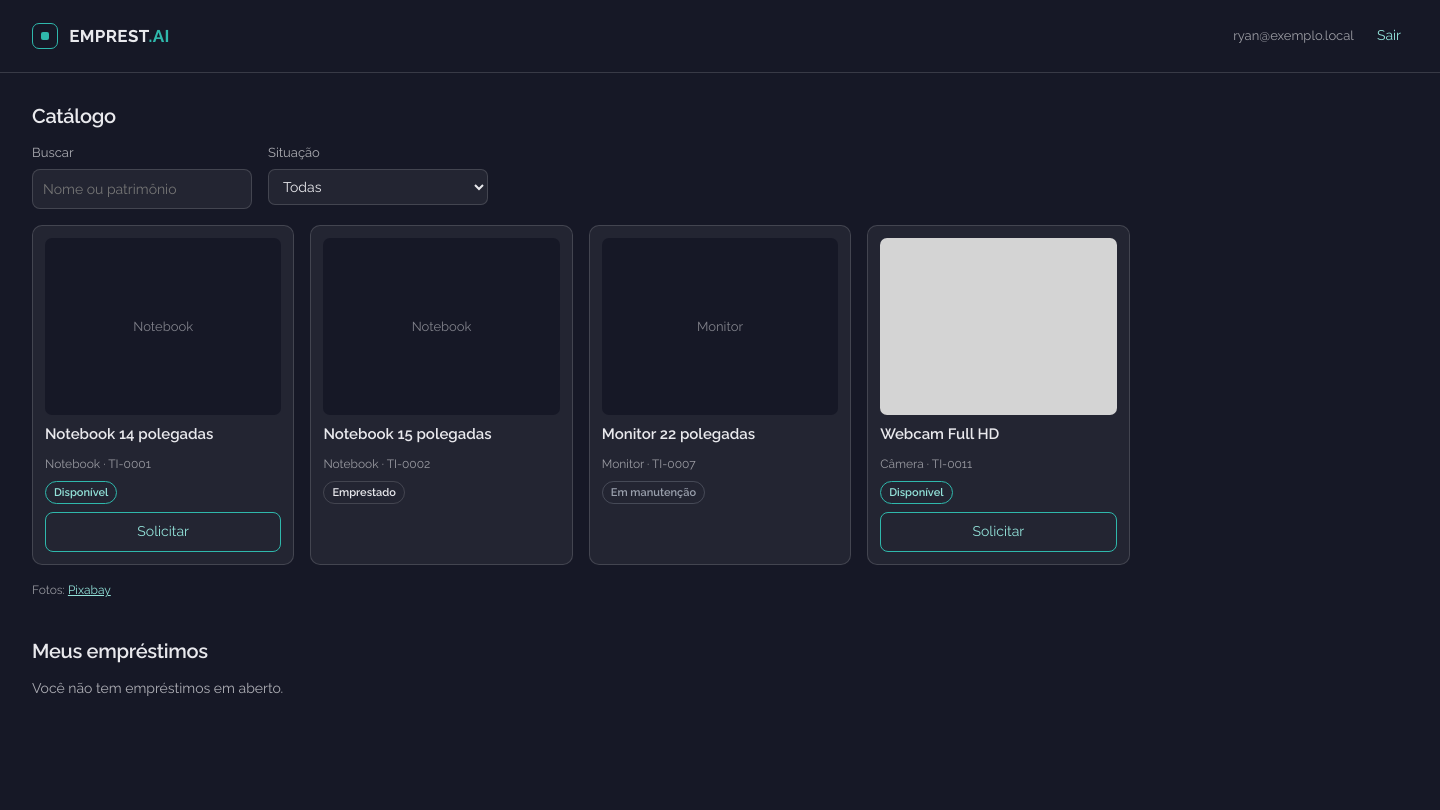
Test: solicitar › CA-04: só disponível tem "Solicitar"; solicitar envia POST /loans e mostra a devolução, recarregando a tela
This screenshot has width=1440, height=810.
Expected: the heading "Catálogo" is shown, [32,104,116,128]
Click the button with aria-label "Solicitar Notebook 14 polegadas".
click(163, 532)  # box [45,512,281,552]
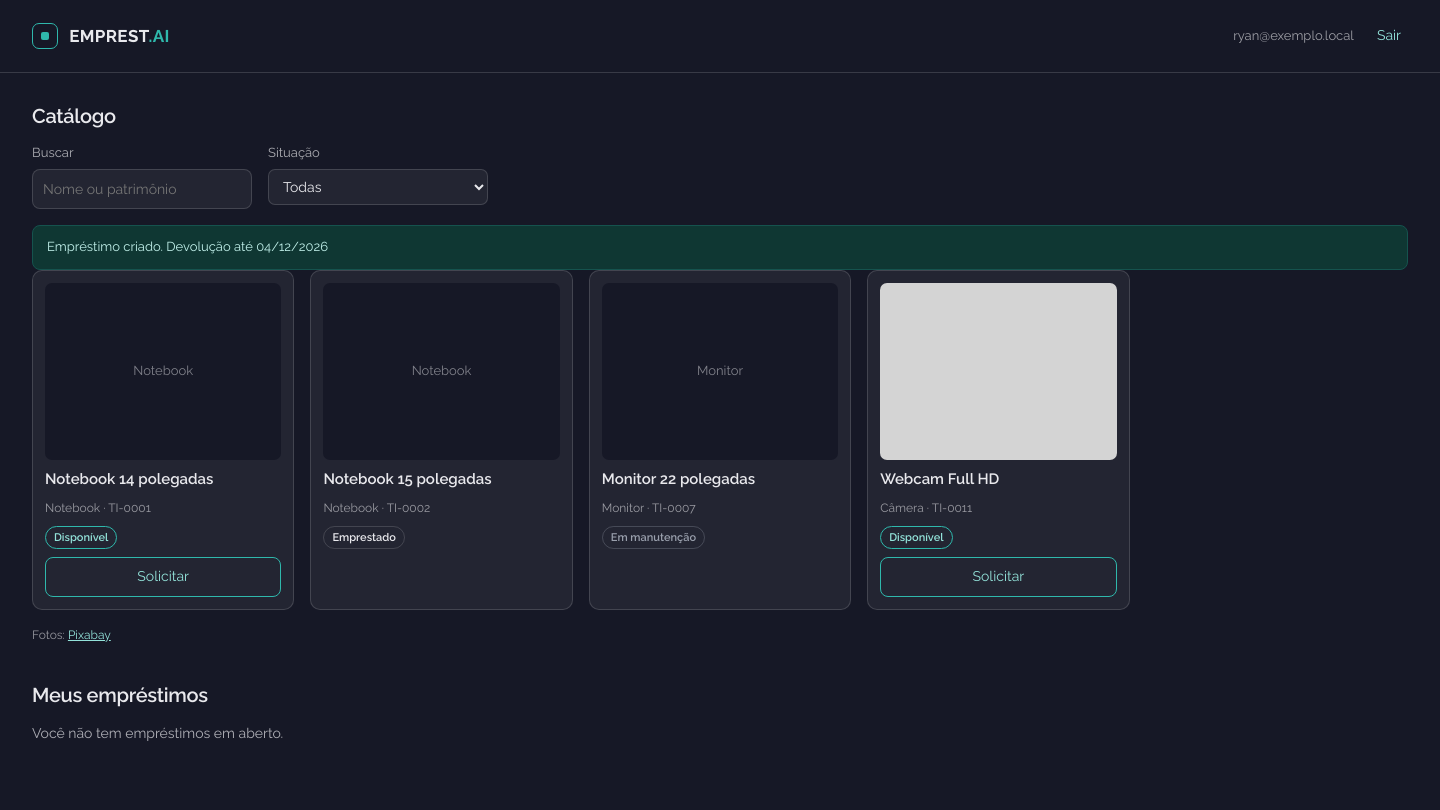
Now the text "Empréstimo criado. Devolução até 04/12/2026" is shown, box [32,225,1408,270]
